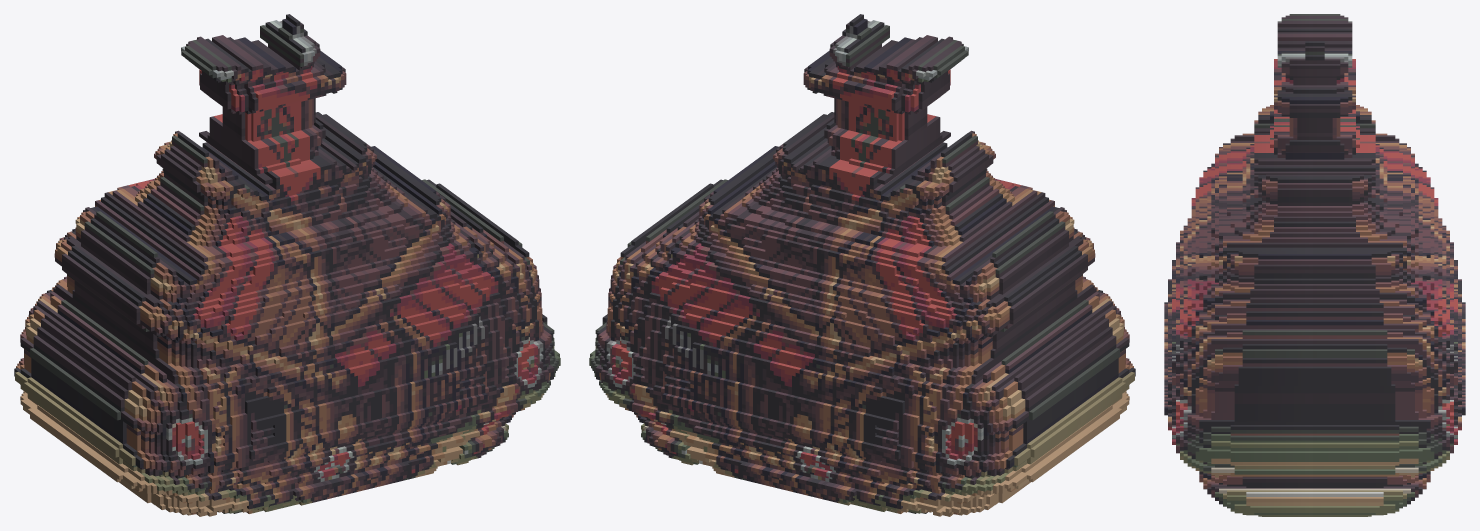
Rendered from pixel_barracks.glb.
3 renders of one model, left to right at view 1: azimuth 30°, elevation 25°; view 2: azimuth 150°, elevation 25°; view 3: azimuth 270°, elevation 25°, orthographic. The views are drawn at different scales.
Visible parts, largest first — view 1: VoxelObject; view 2: VoxelObject; view 3: VoxelObject.
Boxes of the visible parts, x1=… form: VoxelObject: x1=14, y1=14, x2=560, y2=516; VoxelObject: x1=589, y1=14, x2=1135, y2=516; VoxelObject: x1=1164, y1=14, x2=1465, y2=516.
Size of the model in its own units: 5.76 by 6 by 3.76.
